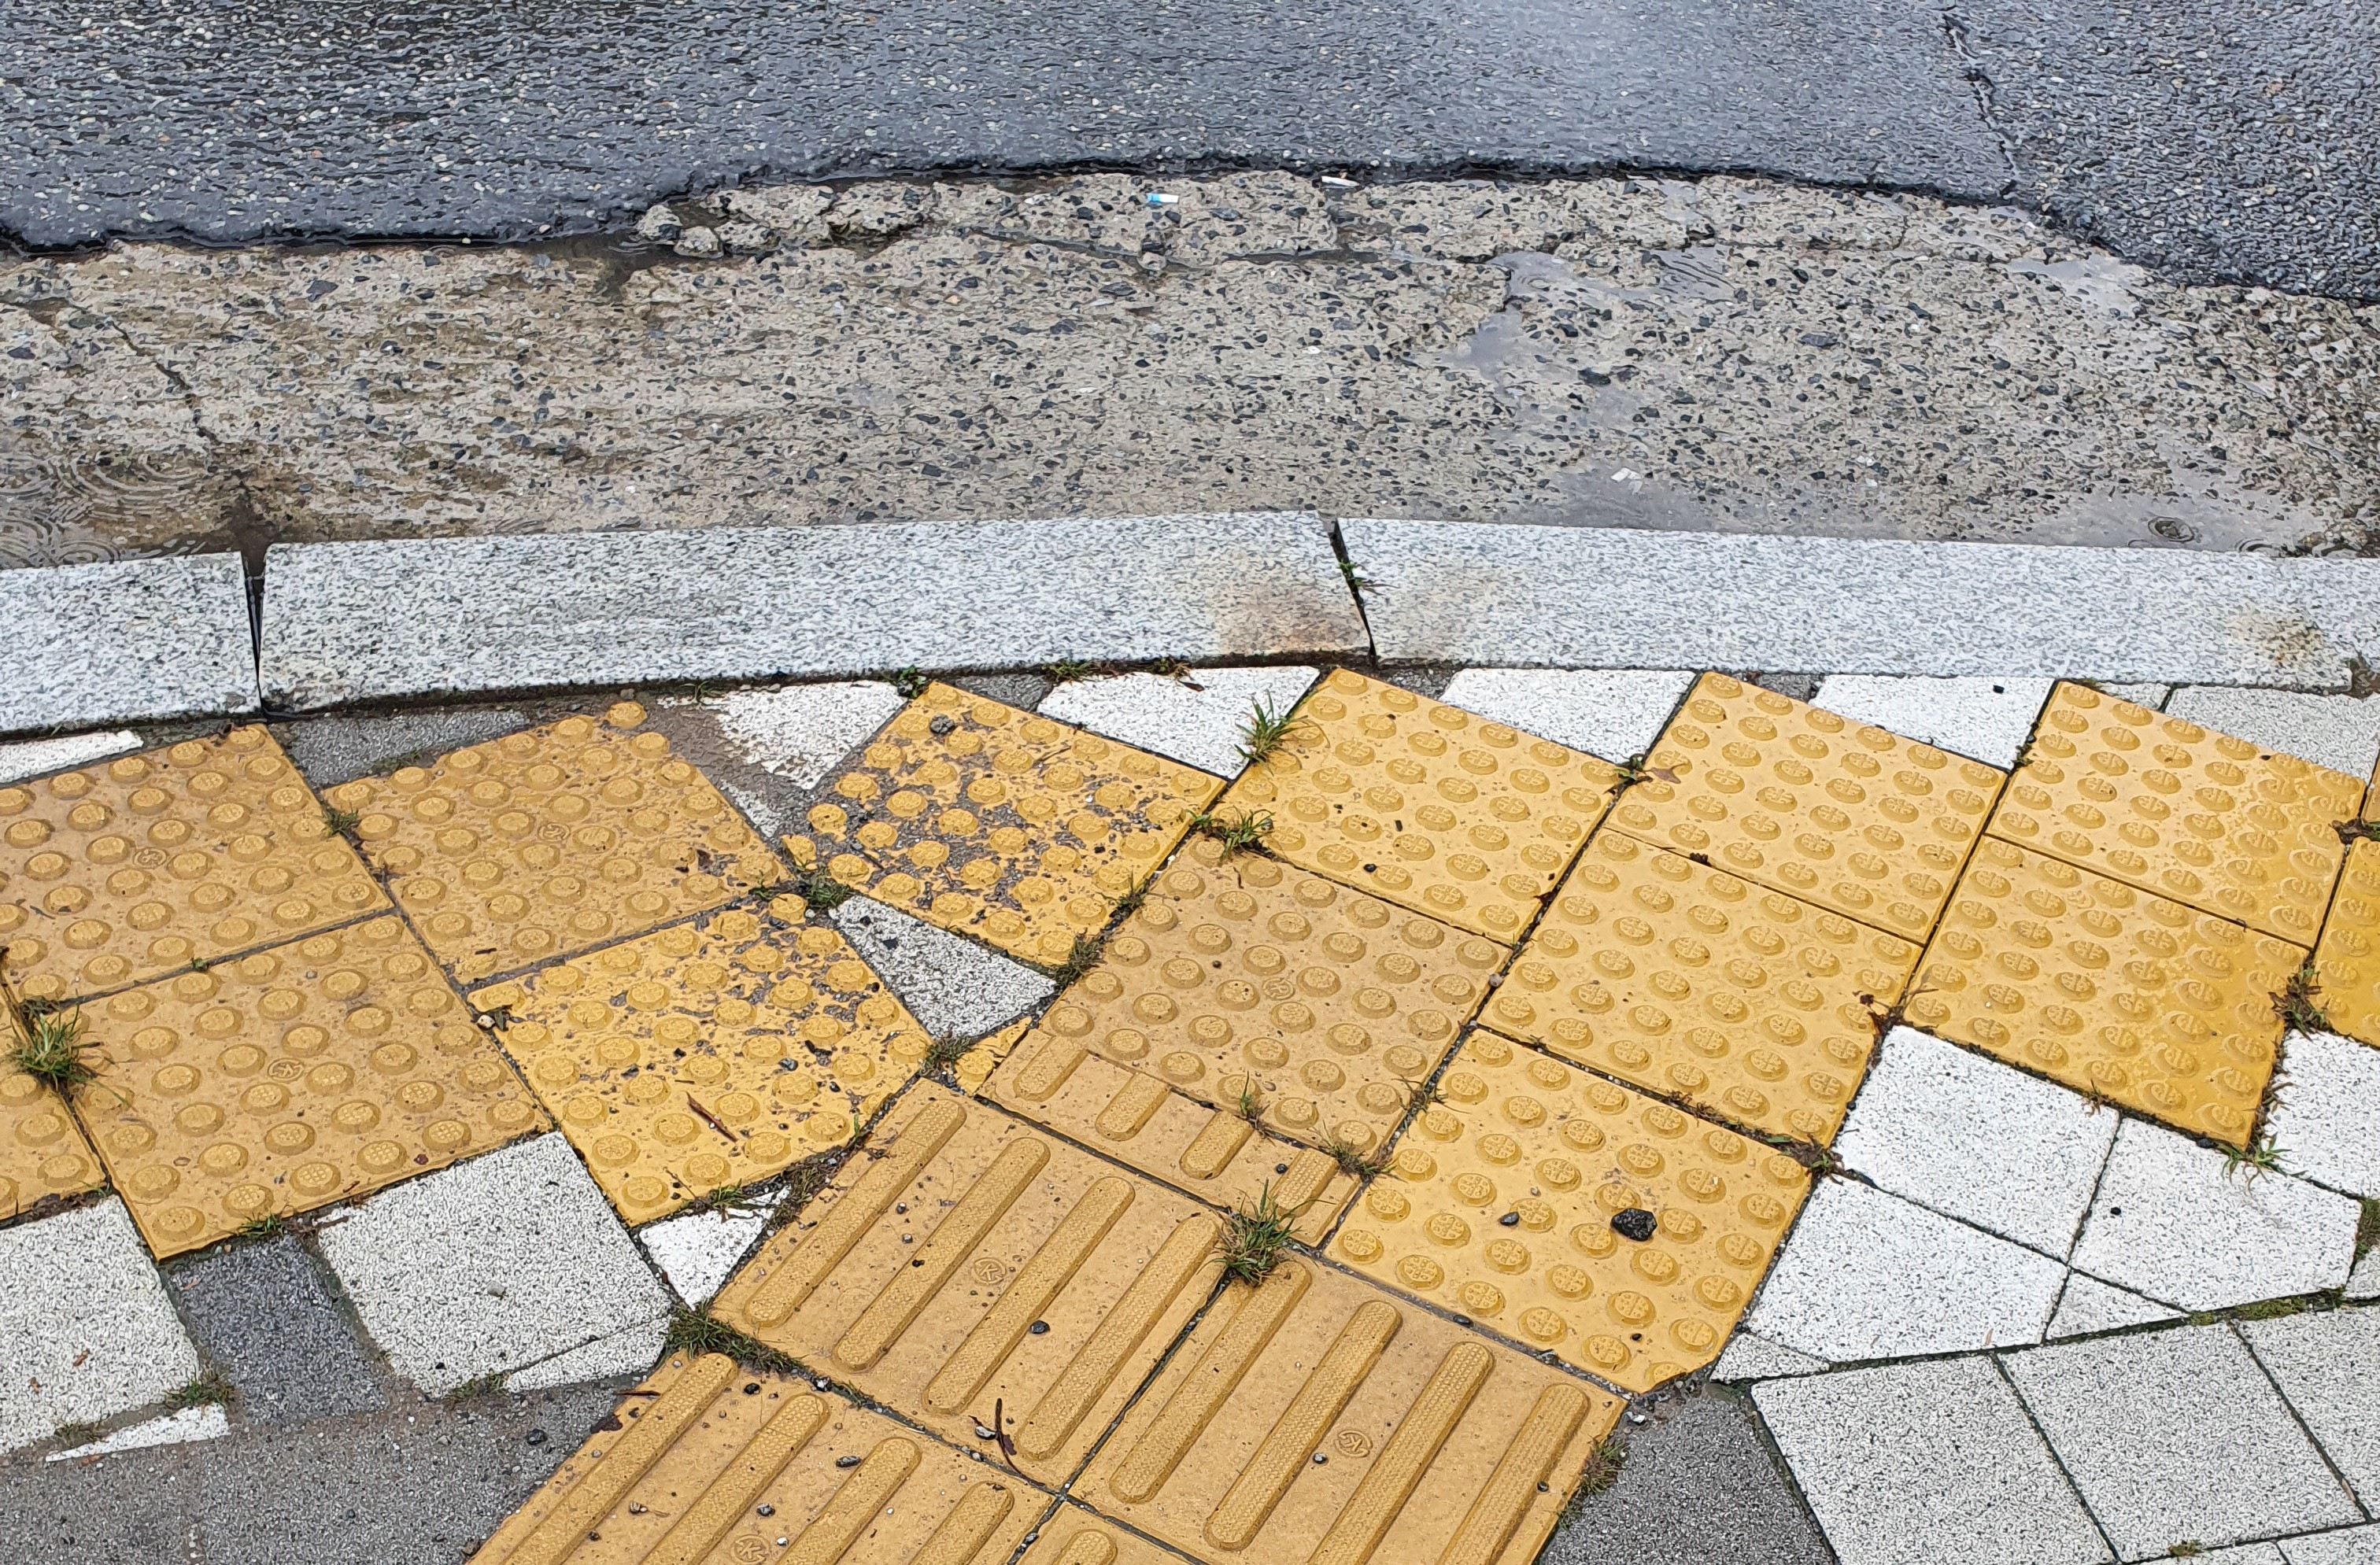guideBlock: (1142, 1209, 1488, 1565), (863, 1095, 1128, 1457)
warningBlock: (30, 908, 478, 1179), (1921, 831, 2298, 1135), (1130, 835, 1437, 1160), (1390, 1013, 1725, 1303), (506, 924, 898, 1149), (1559, 817, 1821, 1113), (887, 714, 1196, 959), (1292, 679, 1565, 896), (1680, 704, 1942, 913), (402, 749, 700, 922), (2045, 695, 2310, 886), (9, 772, 304, 940)
